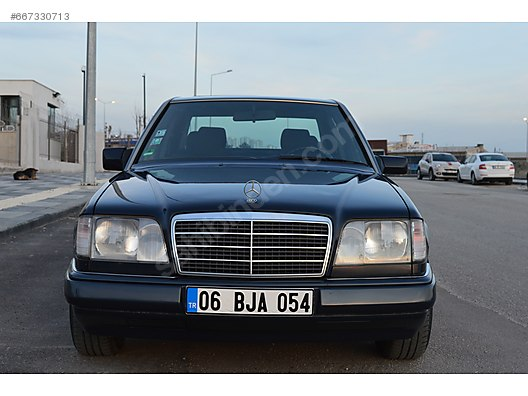mercedes: (63, 93, 437, 362)
